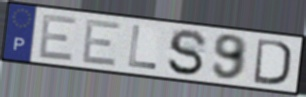9: (209, 33, 251, 83)
D: (252, 37, 293, 88)
E: (80, 18, 123, 68), (36, 13, 79, 63)
L: (126, 24, 158, 71)
S: (166, 27, 210, 77)
